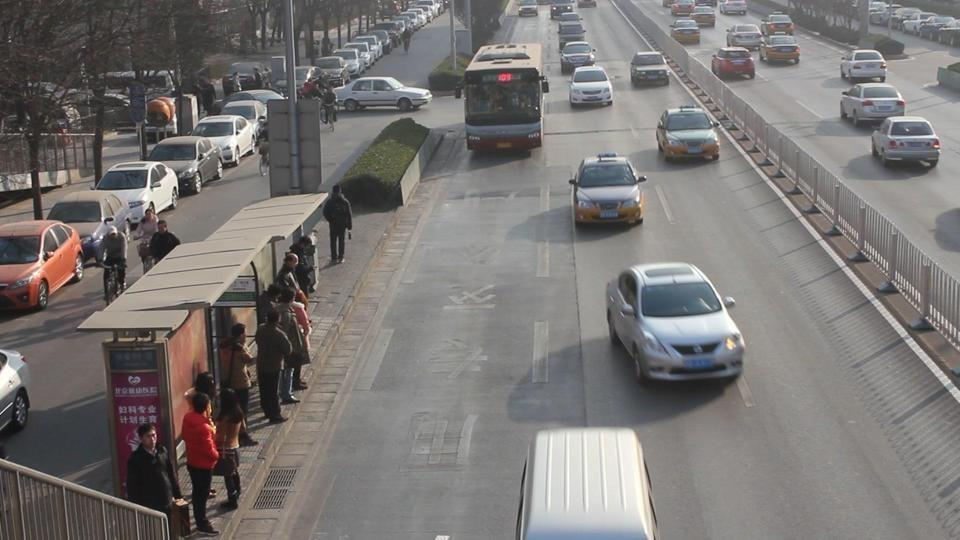car: (605, 261, 746, 385), (515, 426, 660, 539), (0, 218, 85, 310), (568, 154, 647, 225), (46, 193, 130, 258), (92, 161, 179, 218), (146, 136, 223, 195), (655, 106, 721, 163), (870, 116, 942, 168), (190, 115, 259, 167), (334, 77, 433, 112), (838, 83, 908, 129), (0, 347, 32, 438), (218, 100, 268, 146), (568, 66, 614, 108), (839, 48, 888, 82), (710, 45, 756, 80), (629, 51, 670, 89), (311, 55, 351, 88), (725, 23, 765, 56), (759, 35, 801, 66), (226, 62, 269, 92), (560, 42, 597, 75), (670, 18, 700, 45), (518, 1, 538, 17)
